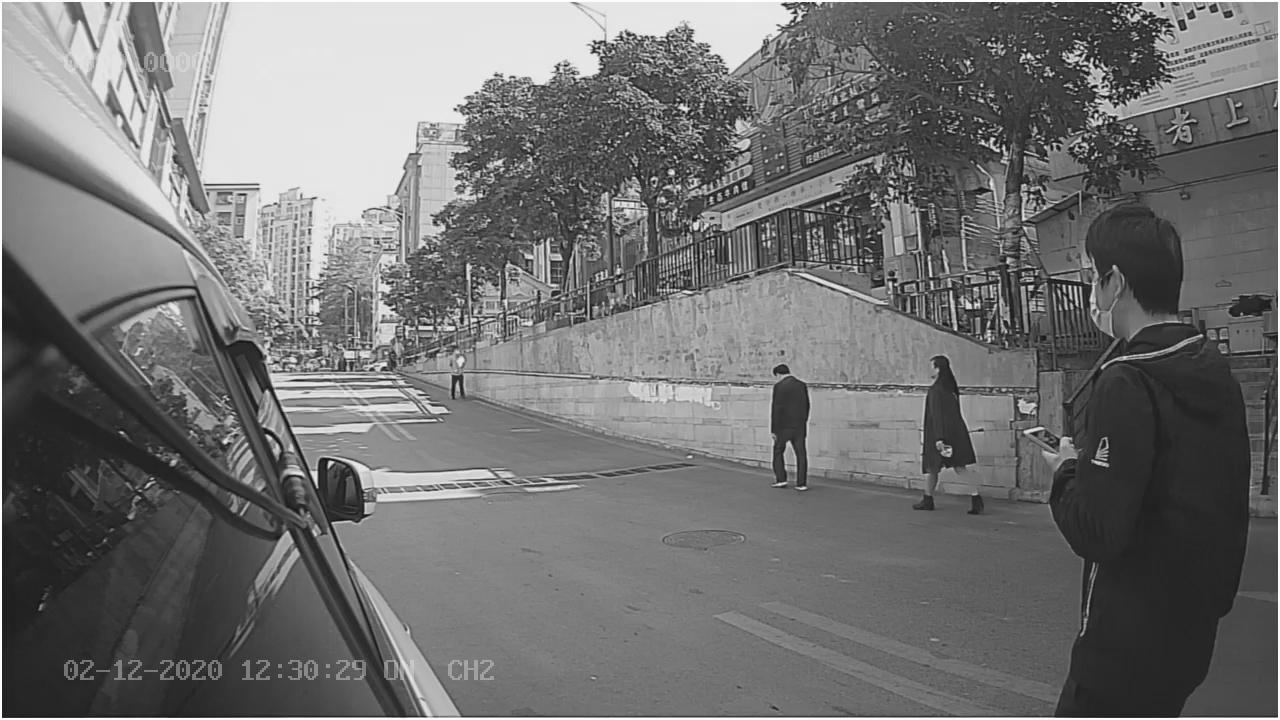person: (1039, 196, 1248, 521)
